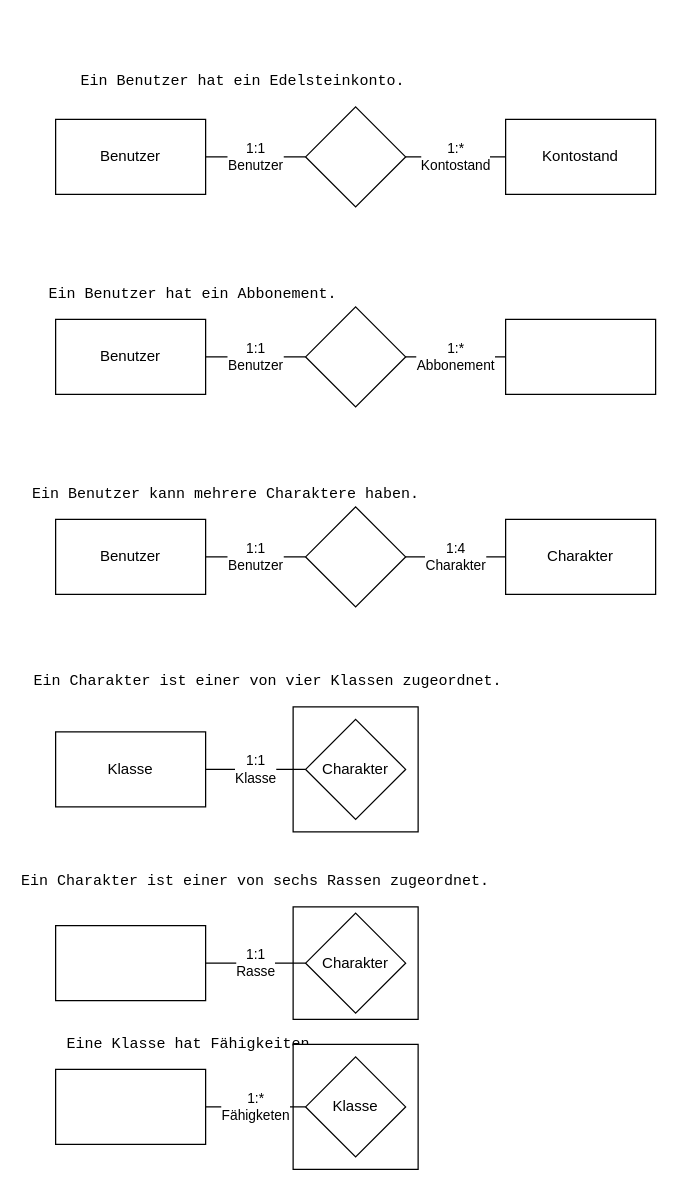
Some shapes in this 678 by 1191 pixel diagram are drawn without their labels. The centre of each missing label's shape, as x and y in pixels:
Abbonement: the point at 580,356
Edelsteinkonto: the point at 355,156
Fähigkeiten: the point at 130,1106
Rasse: the point at 130,962
